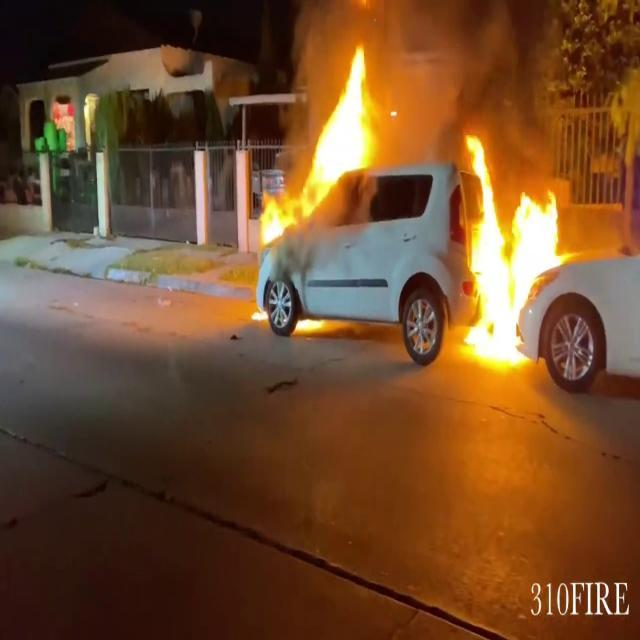Fire: (456, 127, 568, 369), (259, 40, 383, 256), (304, 41, 382, 206)
Smoke: (378, 0, 572, 151)
